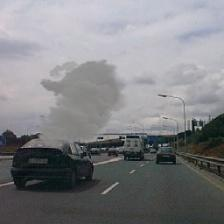fire: (34, 58, 131, 148)
